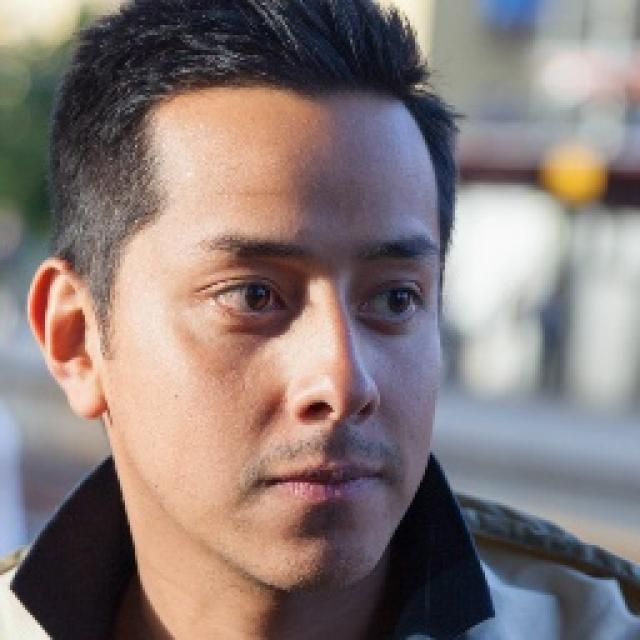earlobe: (72, 364, 106, 420)
eye: (209, 280, 285, 316), (358, 282, 423, 323)
nose: (290, 390, 390, 459)
wholeear: (26, 257, 106, 420)
